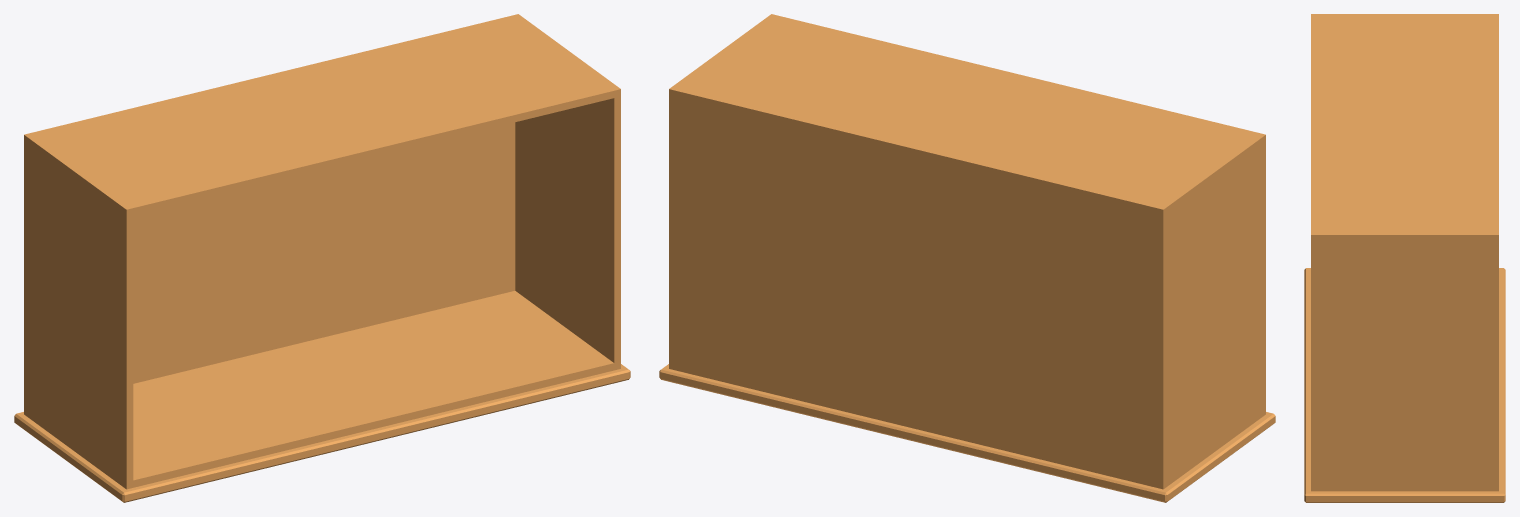
File: DrawermeshDeskDrawer_305_2_2.obj
3 views of the same model, side by side, from view 1: azimuth 30°, elevation 25°; view 2: azimuth 150°, elevation 25°; view 3: azimuth 270°, elevation 25° (orthographic). The views are drawn at different scales.
Visible parts, largest first — view 1: DeskDrawer_305_2; view 2: DeskDrawer_305_2; view 3: DeskDrawer_305_2.
Boxes of the visible parts, x1,y1,x2,y2 form: DeskDrawer_305_2: (14,14,630,502); DeskDrawer_305_2: (659,14,1275,502); DeskDrawer_305_2: (1304,14,1505,502).
Size of the model in its own units: 0.6037 by 0.3291 by 0.2259.
